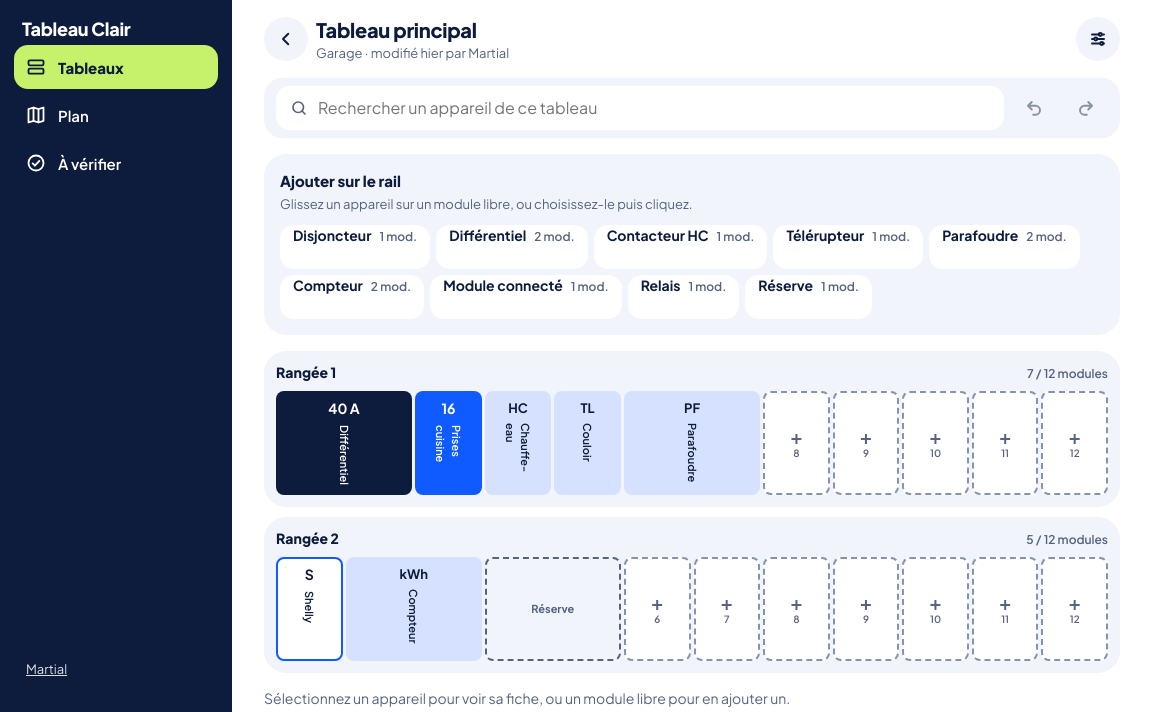
Test: éditeur de rail — sélection › passer d’un module libre à un élément ferme l’ajout
Click the button named "Rangée 1, module libre 8, ajouter un appareil" at (796, 443), box [763, 391, 830, 495]
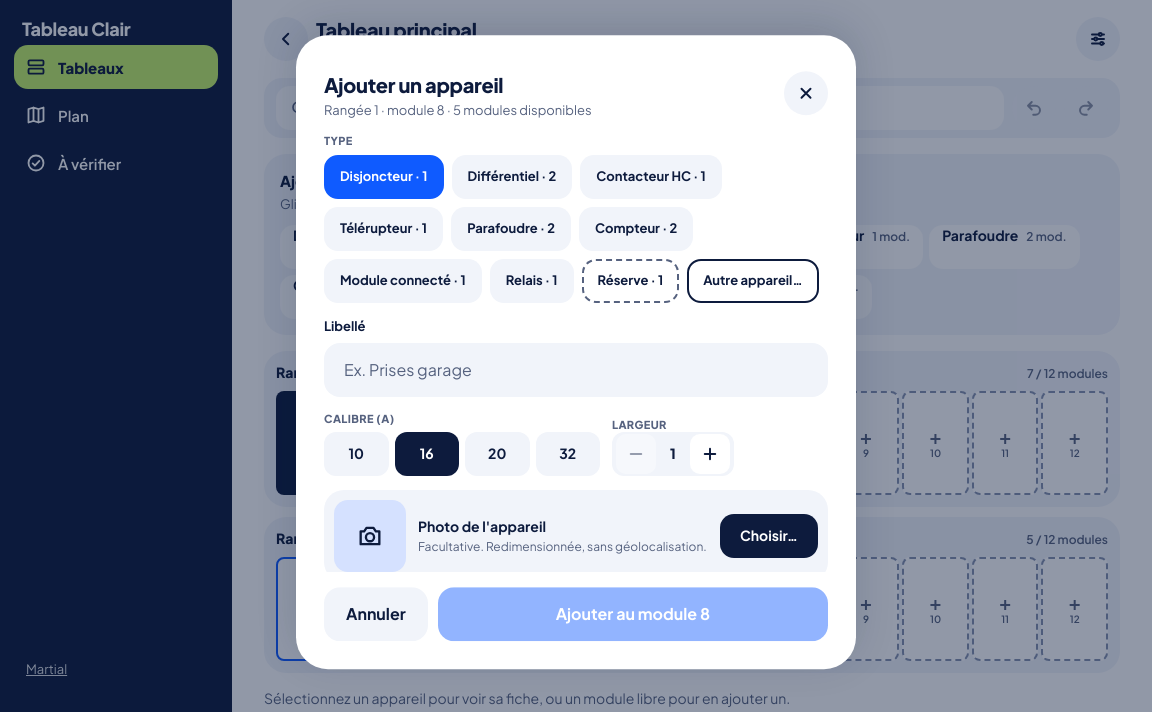
Press Escape
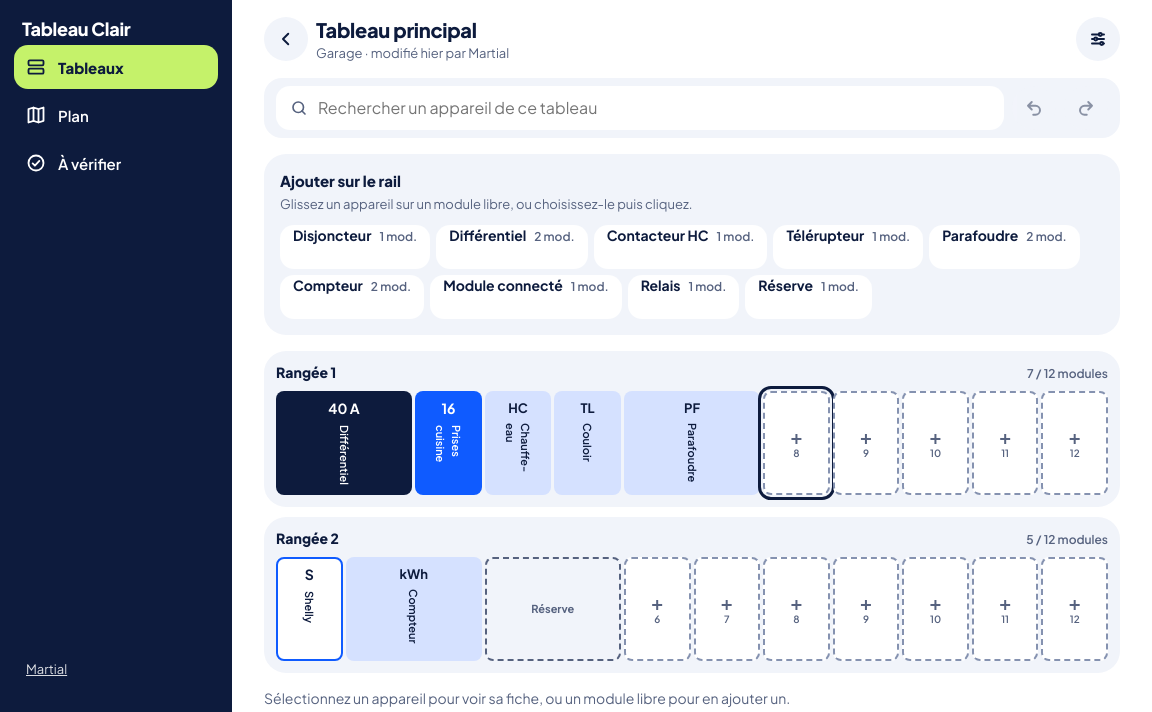
Click the button "16 Prises cuisine" at (448, 443), box [415, 391, 482, 495]
(page scrolled)
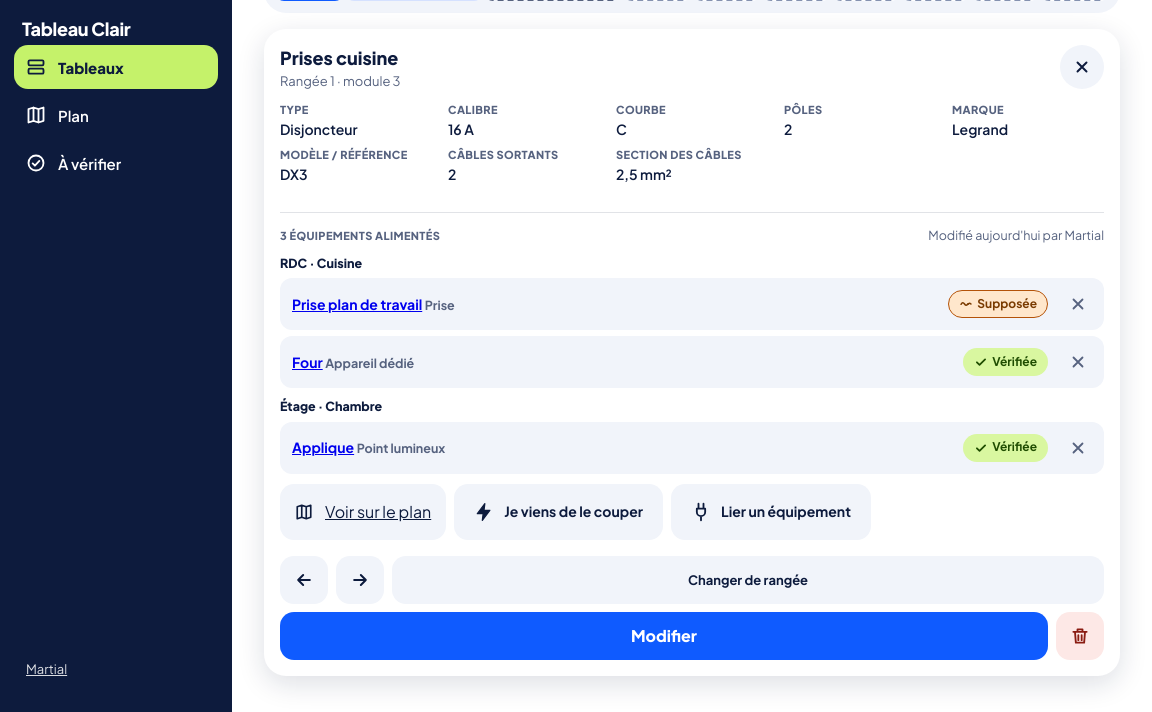
Expected: the heading "Ajouter un appareil" is not shown
Expected: the element "Prises cuisine" is shown
